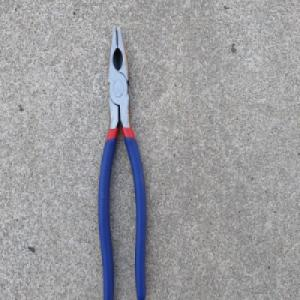Pliers: (96, 22, 148, 300)
